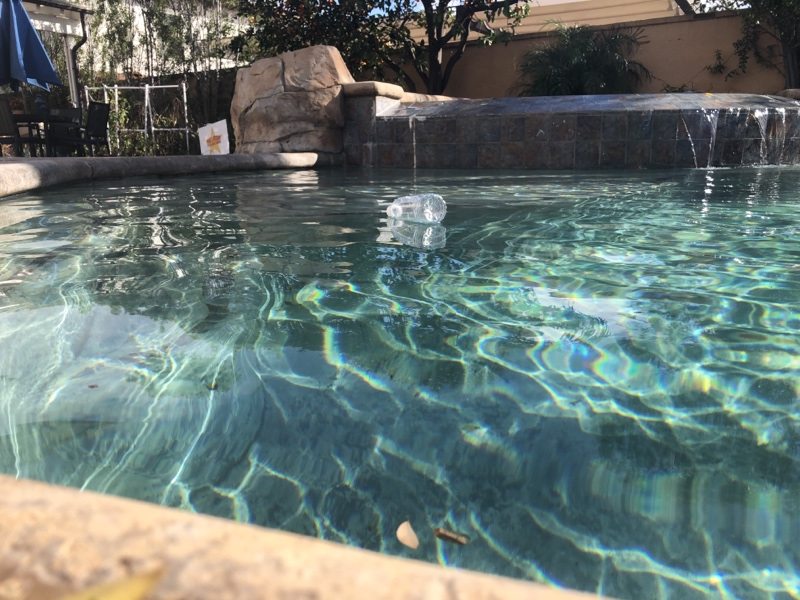Plastic Bottle: (381, 192, 449, 228)
